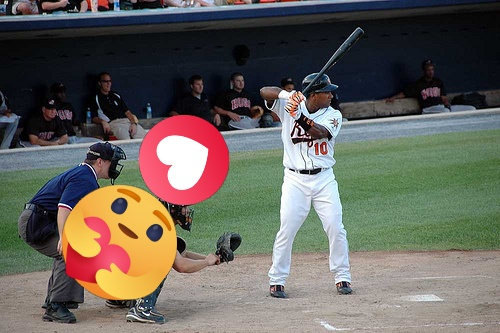care: (62, 185, 177, 300)
love: (139, 115, 229, 205)
